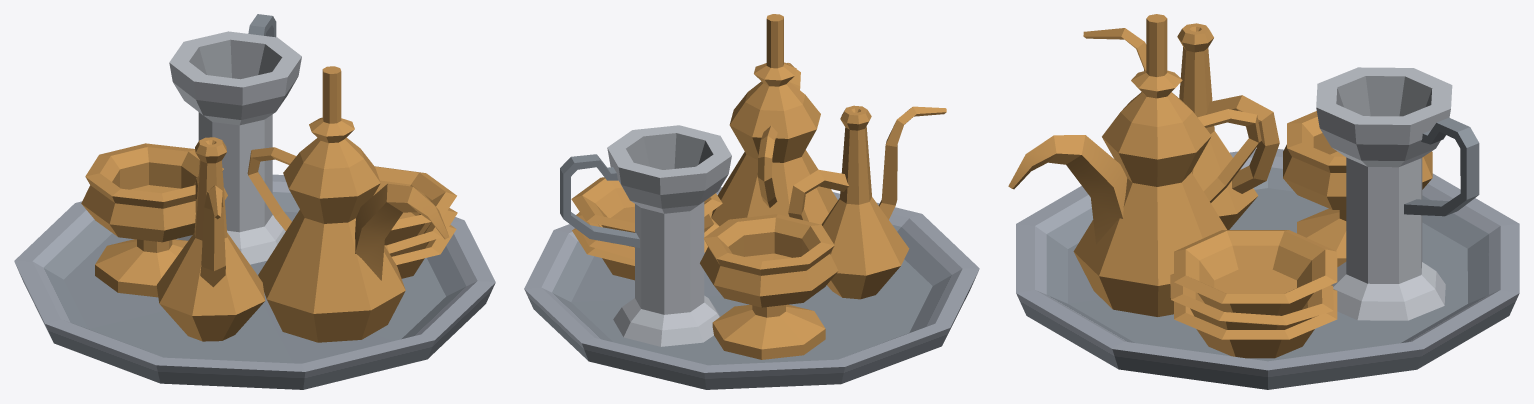
File: SM_Prop_Gold_Plates_Preset_06.glb
The picture shows the model from 3 angles, left to right: view 1: azimuth 30°, elevation 25°; view 2: azimuth 150°, elevation 25°; view 3: azimuth 270°, elevation 25°; orthographic projection. The views are drawn at different scales.
Visible parts, largest first — view 1: SM_Prop_Gold_Plates_Preset_06; view 2: SM_Prop_Gold_Plates_Preset_06; view 3: SM_Prop_Gold_Plates_Preset_06.
Part boxes in pixels (box(x1,y1,x2,y2)): SM_Prop_Gold_Plates_Preset_06: box(14, 14, 495, 389); SM_Prop_Gold_Plates_Preset_06: box(524, 14, 979, 389); SM_Prop_Gold_Plates_Preset_06: box(1008, 14, 1519, 389).
Bounding box in the file's own units: 1.27 × 0.7467 × 1.22.
1 material, 1 textured.
